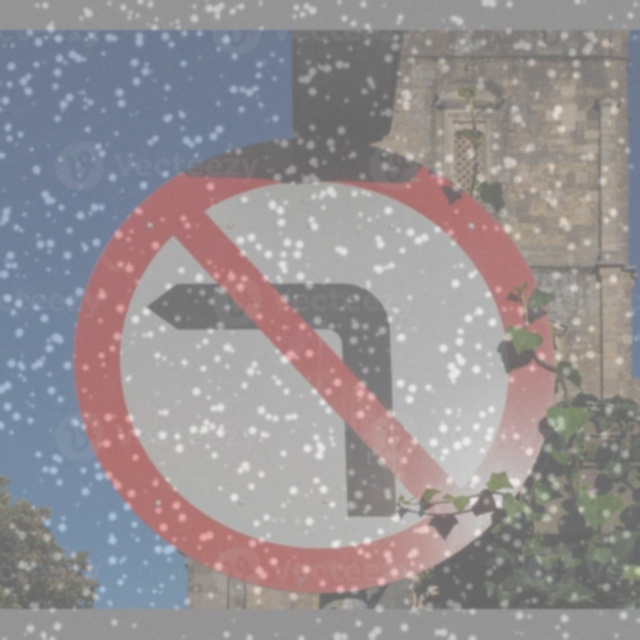Left_Turn_Prohibited: (76, 146, 555, 588)
